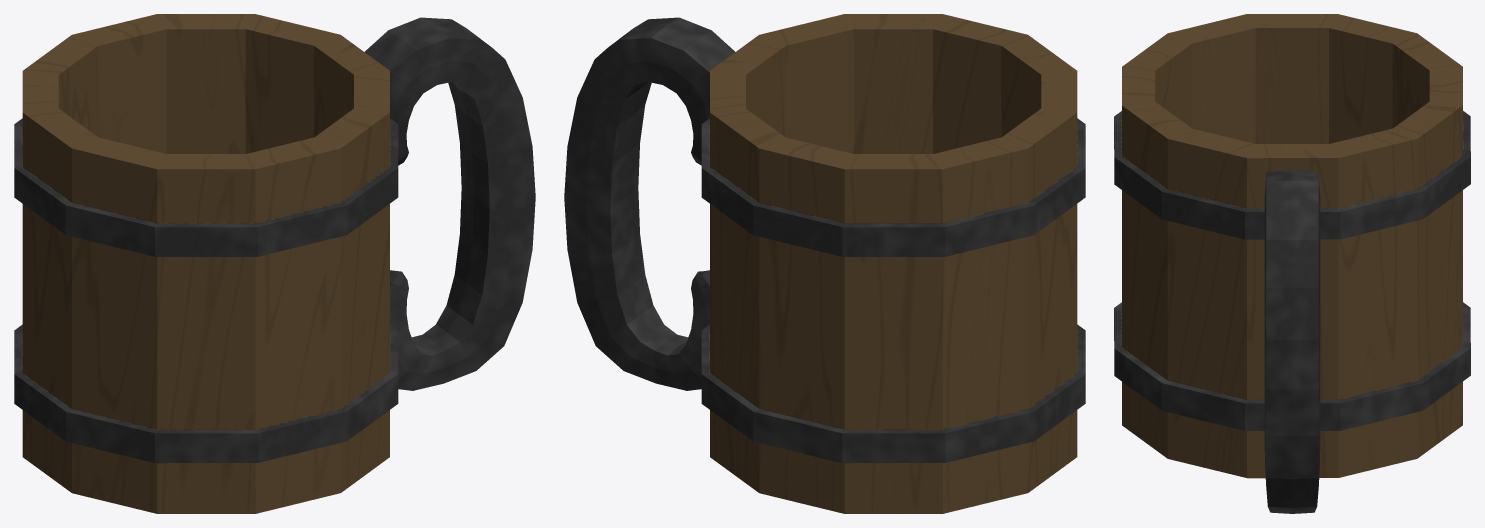
Rendered from jarra.fbx.
3 views of the same model, side by side, from view 1: azimuth 30°, elevation 25°; view 2: azimuth 150°, elevation 25°; view 3: azimuth 270°, elevation 25° (orthographic). The views are drawn at different scales.
Parts seen in each view (by area): view 1: Cylinder; view 2: Cylinder; view 3: Cylinder.
Boxes of the visible parts, bbox=[...] form: Cylinder: bbox=[14, 14, 535, 513]; Cylinder: bbox=[564, 14, 1085, 513]; Cylinder: bbox=[1114, 14, 1470, 513].
Bounding box in the file's own units: 21.41 × 15 × 14.74.
1 material, 1 textured.
